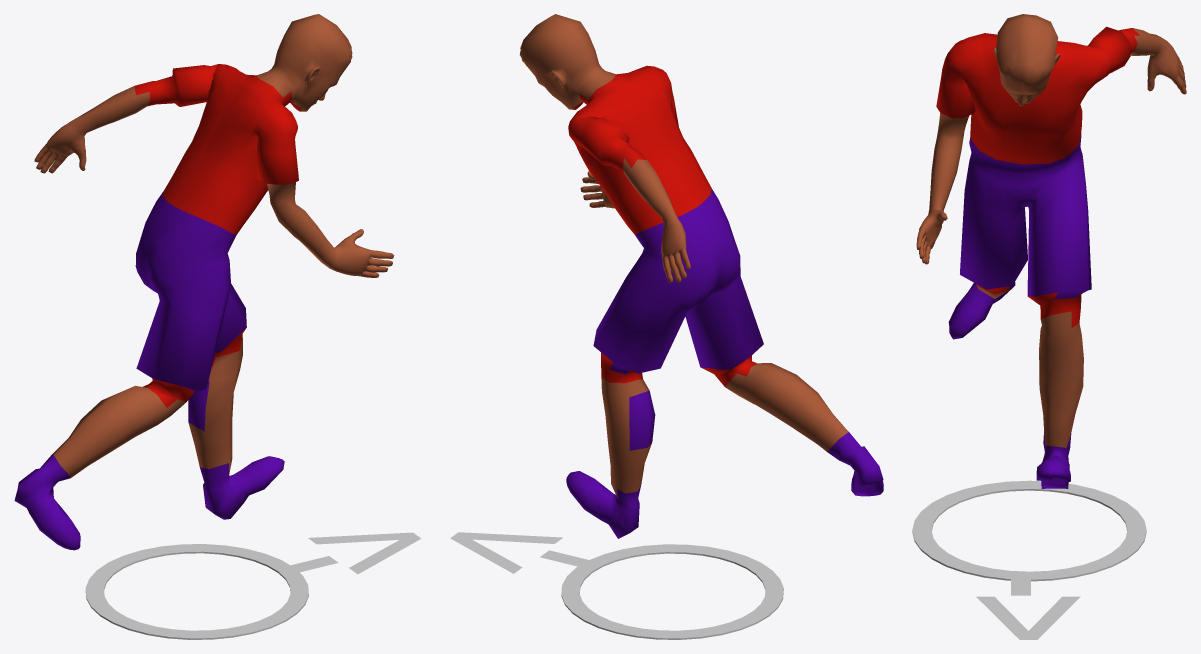
File: player_000009.obj
The picture shows the model from 3 angles, left to right: view 1: azimuth 30°, elevation 25°; view 2: azimuth 150°, elevation 25°; view 3: azimuth 270°, elevation 25°; orthographic projection. The views are drawn at different scales.
Visible parts, largest first — view 1: soccerplayer.002_mesh.003, Circle, Text.001_Mesh.001; view 2: soccerplayer.002_mesh.003, Circle, Text.001_Mesh.001; view 3: soccerplayer.002_mesh.003, Circle, Text.001_Mesh.001.
Part boxes in pixels (bbox=[...]): soccerplayer.002_mesh.003: bbox=[14, 14, 394, 550]; Circle: bbox=[85, 544, 308, 639]; Text.001_Mesh.001: bbox=[286, 532, 421, 574]; soccerplayer.002_mesh.003: bbox=[519, 14, 883, 538]; Circle: bbox=[561, 544, 783, 639]; Text.001_Mesh.001: bbox=[450, 532, 591, 573]; soccerplayer.002_mesh.003: bbox=[916, 14, 1186, 488]; Circle: bbox=[912, 480, 1146, 581]; Text.001_Mesh.001: bbox=[976, 573, 1080, 639].
Bounding box in the file's own units: 2.34 × 2.94 × 1.27.
